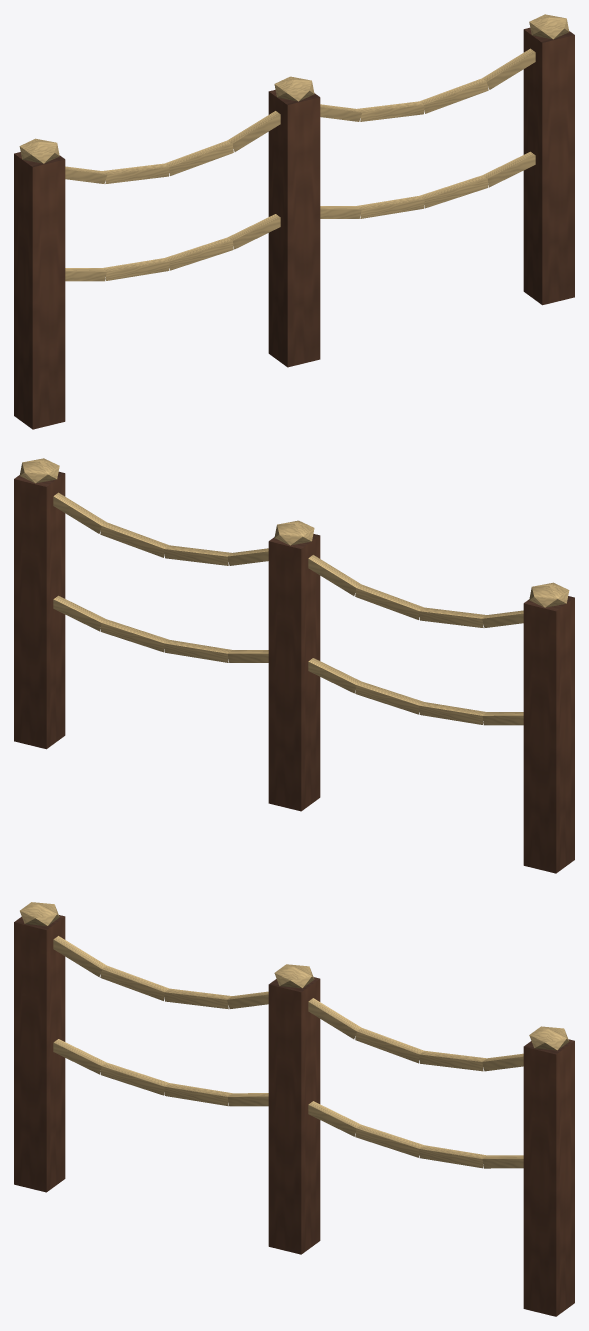
Rendered from dock_railing_01.glb.
3 renders of one model, top to bottom at view 1: azimuth 30°, elevation 25°; view 2: azimuth 150°, elevation 25°; view 3: azimuth 330°, elevation 25°, orthographic.
Parts seen in each view (by area): view 1: dock_railing_01; view 2: dock_railing_01; view 3: dock_railing_01.
Boxes of the visible parts, box(x1,y1,x2,y2) form: dock_railing_01: box(14, 14, 574, 429); dock_railing_01: box(14, 458, 574, 873); dock_railing_01: box(14, 902, 574, 1316).
Bounding box in the file's own units: 2.17 × 1.06 × 0.1327.
Materials: 1 (1 with a texture image).
